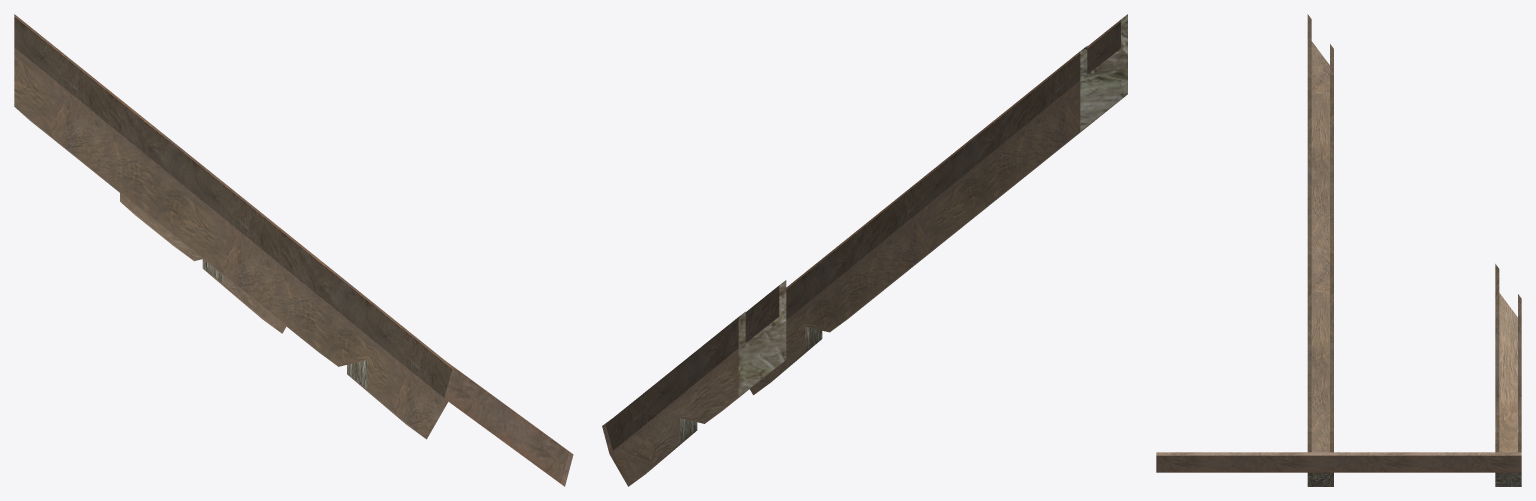
Rendered from RafterCornerCapB.fbx.
3 renders of one model, left to right at view 1: azimuth 30°, elevation 25°; view 2: azimuth 150°, elevation 25°; view 3: azimuth 270°, elevation 25°, orthographic. The views are drawn at different scales.
Parts seen in each view (by area): view 1: RafterCornerCapB; view 2: RafterCornerCapB; view 3: RafterCornerCapB.
Part boxes in pixels (x1,y1,x2,y2): RafterCornerCapB: (14,14,573,486); RafterCornerCapB: (602,14,1127,486); RafterCornerCapB: (1156,14,1521,486).
Bounding box in the file's own units: 340 × 386 × 374.
